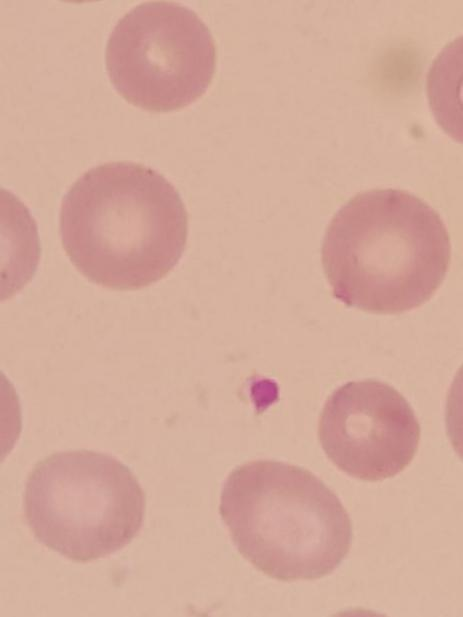Uninfected: (56, 160, 188, 288), (321, 188, 449, 311), (218, 460, 349, 580), (22, 449, 143, 561), (103, 0, 217, 114), (316, 377, 421, 481)
